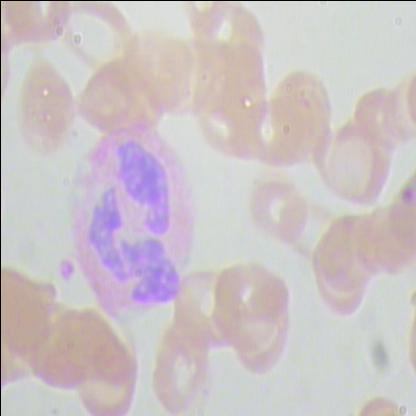Platelets: (53, 249, 78, 288)
RBC: (212, 263, 292, 359), (54, 0, 140, 88), (5, 54, 75, 157), (66, 320, 141, 416), (320, 124, 393, 213), (228, 288, 292, 383), (271, 68, 335, 162), (131, 25, 195, 119), (145, 324, 210, 415), (1, 261, 60, 357), (310, 208, 370, 298), (171, 271, 235, 355), (244, 172, 304, 244), (309, 254, 368, 326), (280, 204, 340, 274), (340, 208, 388, 278), (174, 1, 238, 45)
WBC: (70, 124, 202, 318)
